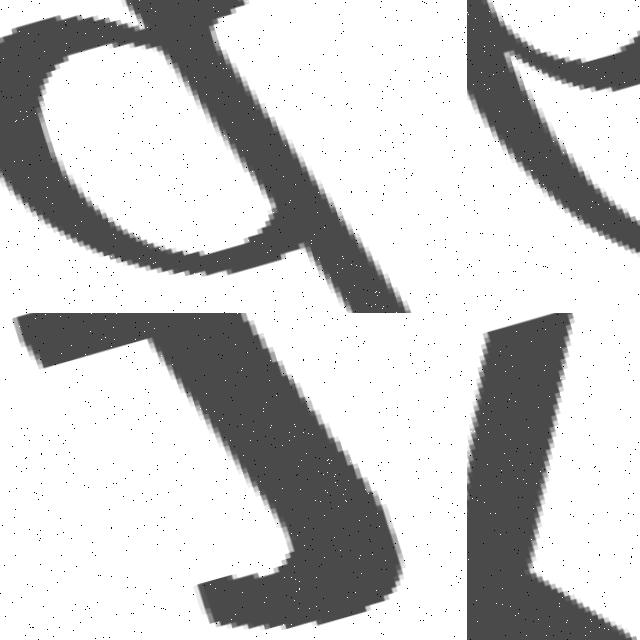9: (467, 0, 640, 313)
P: (0, 0, 404, 313)
T: (0, 313, 421, 640)
X: (467, 313, 640, 640)
